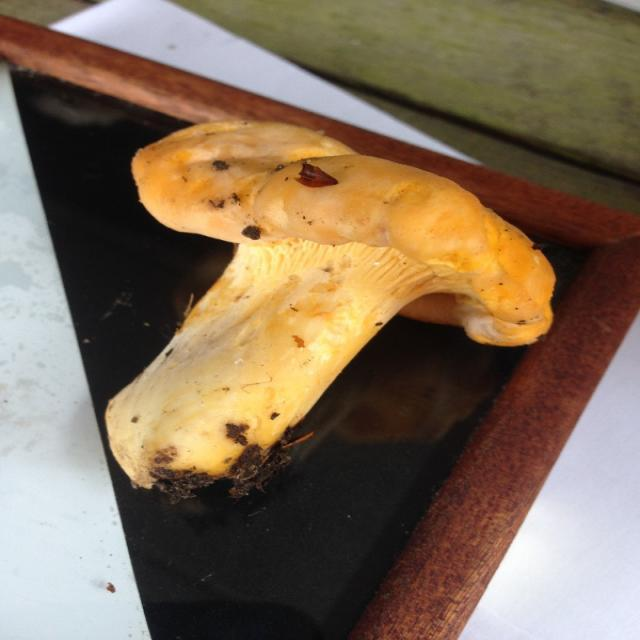Cantharellus cibarius: (109, 123, 553, 492)
